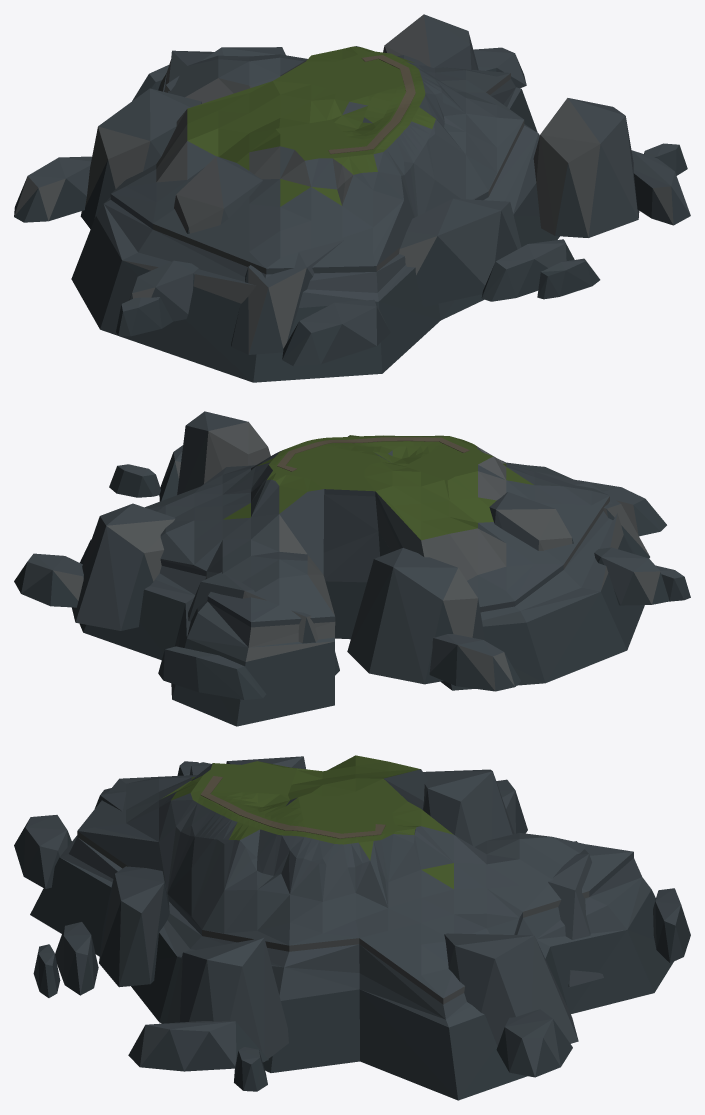
File: island_c.glb
3 renders of one model, top to bottom at view 1: azimuth 30°, elevation 25°; view 2: azimuth 150°, elevation 25°; view 3: azimuth 270°, elevation 25°, orthographic. The views are drawn at different scales.
Parts seen in each view (by area): view 1: island_c_Coast blue grey bedrock, island_c_Coast short olive grass, island_c_Coast weathered stone footpath; view 2: island_c_Coast blue grey bedrock, island_c_Coast short olive grass, island_c_Coast weathered stone footpath; view 3: island_c_Coast blue grey bedrock, island_c_Coast short olive grass, island_c_Coast weathered stone footpath.
Boxes of the visible parts, x1,y1,x2,y2 form: island_c_Coast blue grey bedrock: (14, 14, 690, 382); island_c_Coast short olive grass: (110, 46, 524, 274); island_c_Coast weathered stone footpath: (328, 55, 415, 154); island_c_Coast blue grey bedrock: (14, 411, 690, 726); island_c_Coast short olive grass: (145, 435, 609, 627); island_c_Coast weathered stone footpath: (277, 437, 469, 471); island_c_Coast blue grey bedrock: (14, 756, 690, 1100); island_c_Coast short olive grass: (77, 755, 633, 1004); island_c_Coast weathered stone footpath: (200, 776, 385, 838).
Size of the model in its own units: 70.31 by 17.59 by 64.9.
